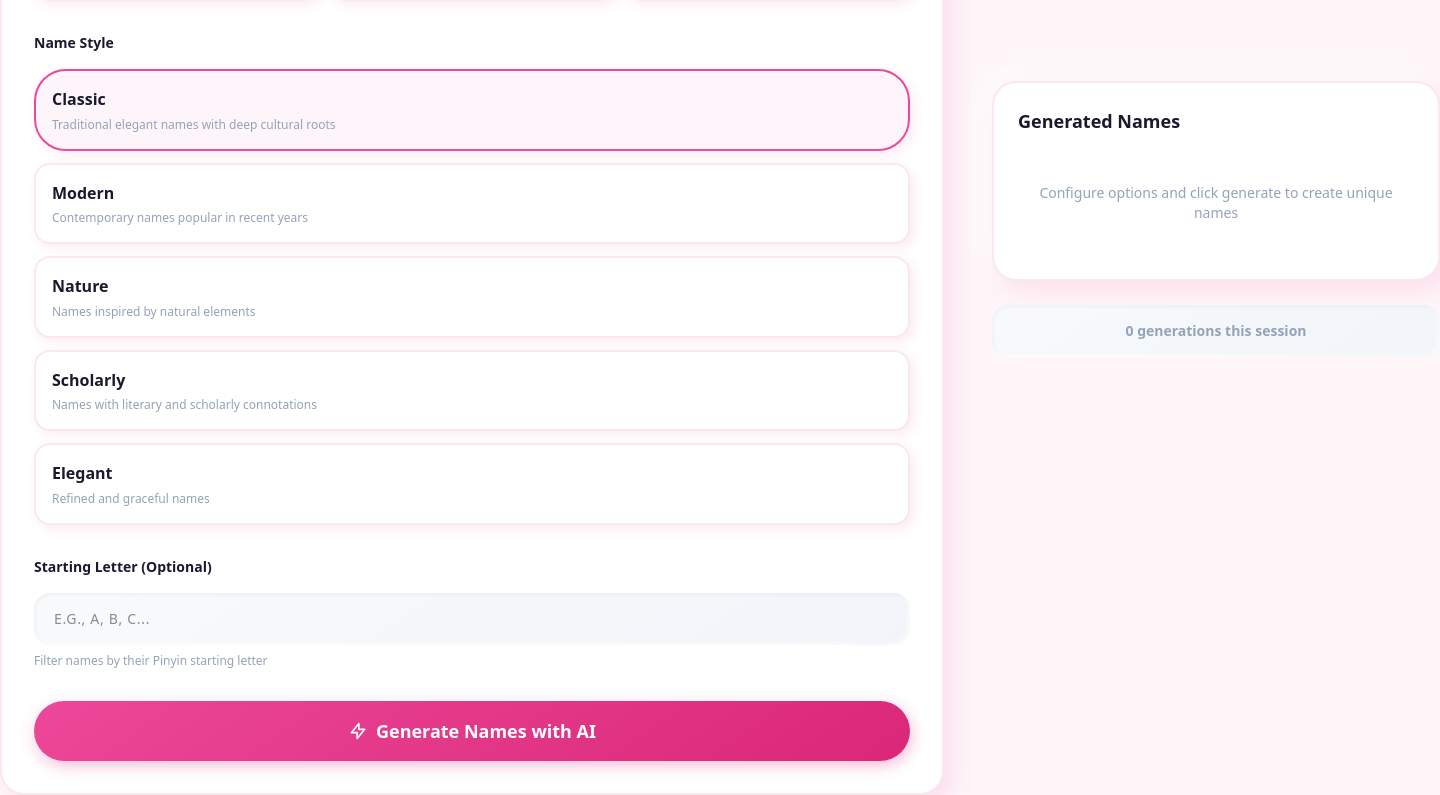
Test: GeneratorForm › shows generated names on successful API response
This screenshot has width=1440, height=795.
(page scrolled)
Step 1. Click the button "Generate Names with AI" → x=472, y=731, box [34,701,910,761]
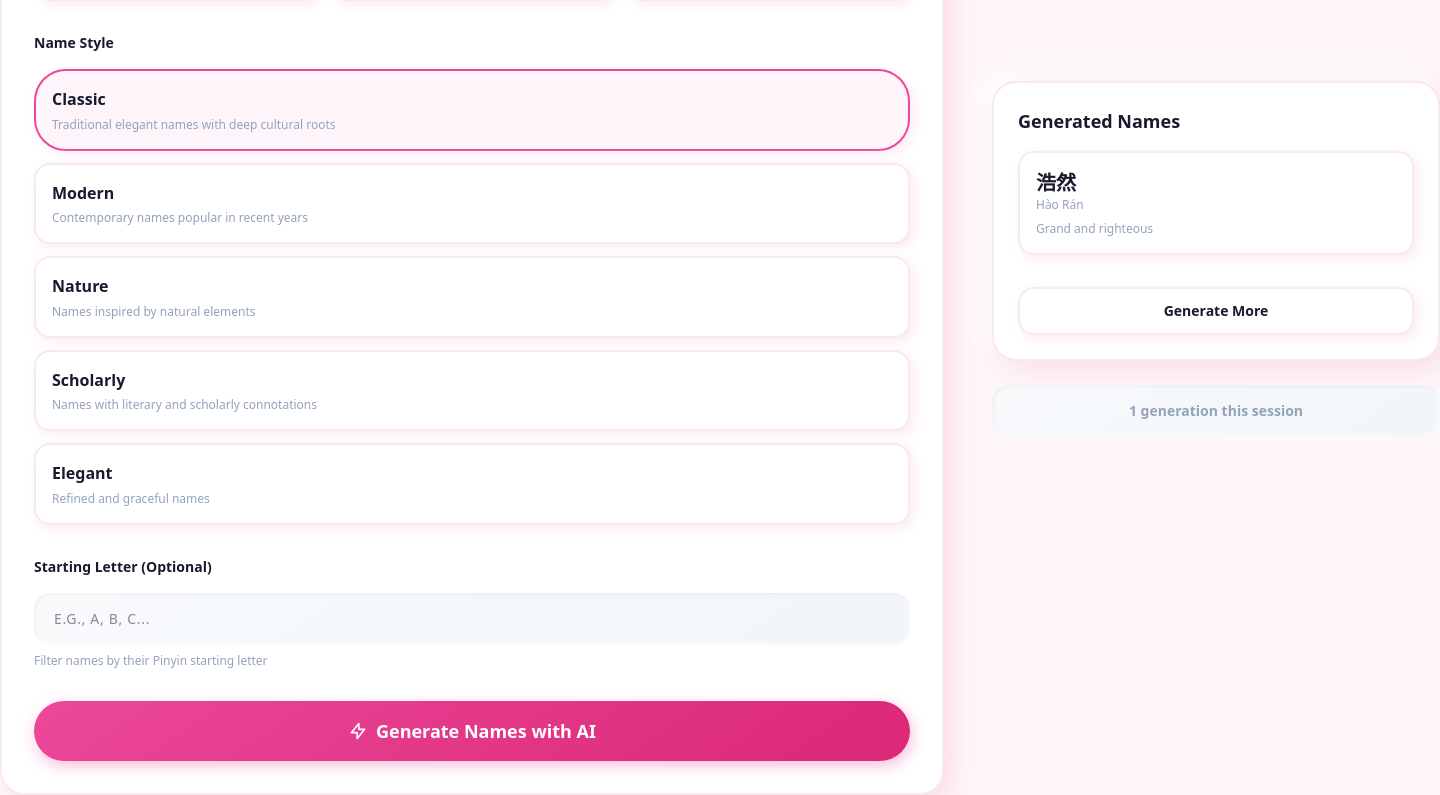
Result: the text "浩然" is shown at [1036,169,1076,196]
